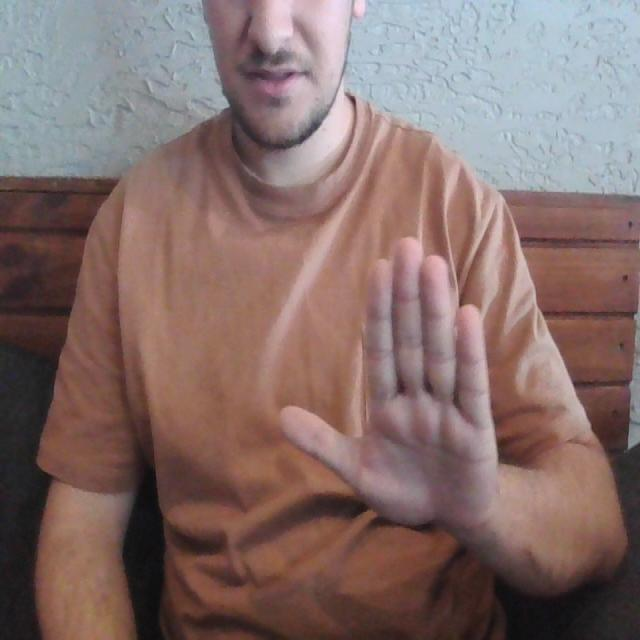Dur: (273, 201, 516, 558)
